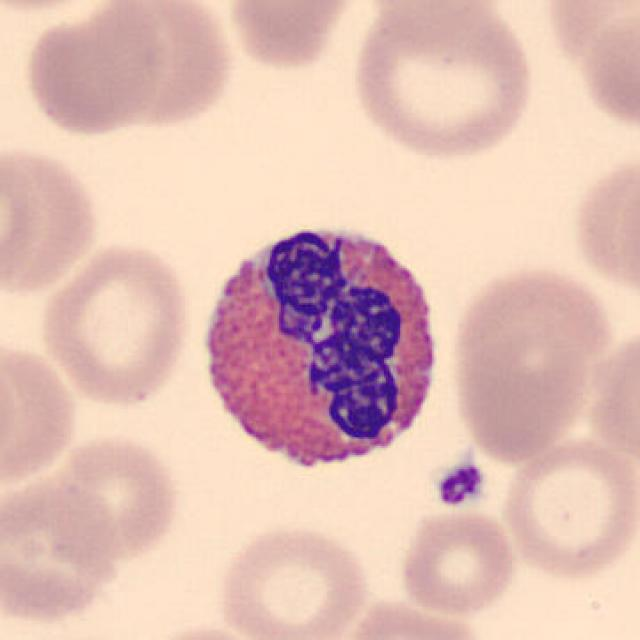Eosinophil: (187, 207, 453, 496)
Platelets: (432, 458, 487, 509)
RBC: (443, 259, 617, 464), (343, 0, 541, 164), (35, 238, 194, 411), (84, 0, 240, 138), (498, 432, 638, 584), (17, 0, 170, 139), (43, 430, 183, 570), (0, 469, 124, 627), (212, 520, 374, 640), (0, 139, 105, 300), (396, 506, 521, 619), (535, 0, 640, 134), (0, 342, 82, 496), (565, 143, 640, 307), (219, 0, 366, 74), (334, 594, 491, 640), (0, 329, 21, 488), (132, 622, 274, 640), (0, 0, 137, 16)
